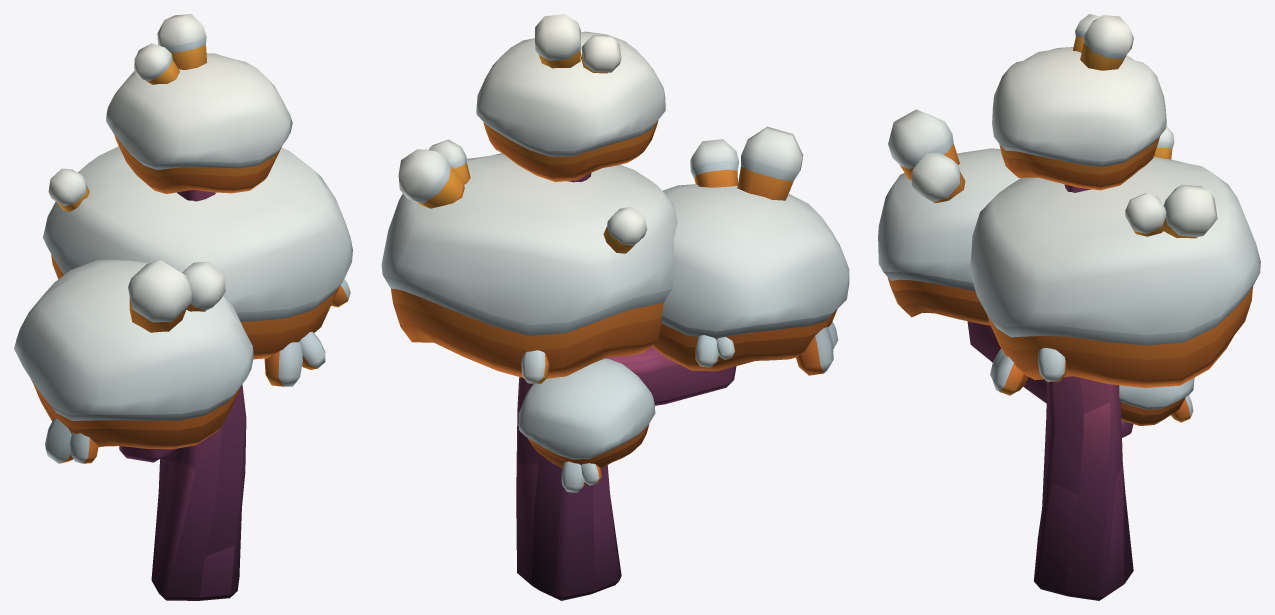
Rendered from grassland_tree_col2_5_snow.fbx.
3 renders of one model, left to right at view 1: azimuth 30°, elevation 25°; view 2: azimuth 150°, elevation 25°; view 3: azimuth 270°, elevation 25°, orthographic. The views are drawn at different scales.
Parts seen in each view (by area): view 1: grassland_tree_col2_5_snow; view 2: grassland_tree_col2_5_snow; view 3: grassland_tree_col2_5_snow.
Boxes of the visible parts, box(x1,y1,x2,y2) form: grassland_tree_col2_5_snow: box(14, 14, 352, 600); grassland_tree_col2_5_snow: box(381, 14, 849, 600); grassland_tree_col2_5_snow: box(878, 14, 1260, 600).
Bounding box in the file's own units: 673 × 1035 × 635.
Materials: 1 (1 with a texture image).
